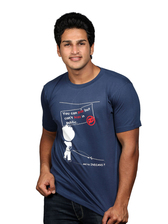clothoes: (39, 70, 147, 218)
